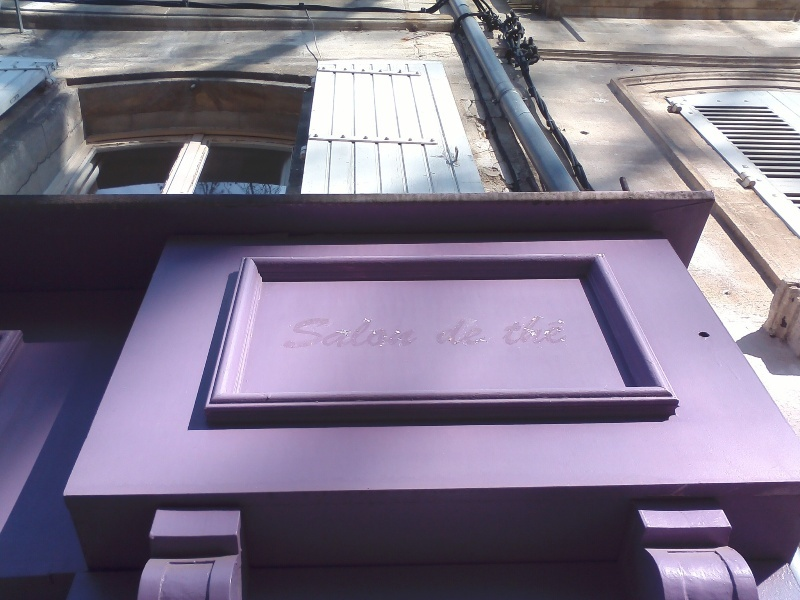text: (289, 314, 304, 352), (305, 314, 320, 352), (321, 314, 336, 352), (337, 314, 352, 352), (353, 314, 368, 352), (369, 314, 384, 352), (385, 314, 400, 352), (401, 314, 416, 352), (513, 313, 528, 347), (529, 313, 544, 347), (545, 313, 560, 347), (449, 317, 464, 349), (465, 317, 480, 349), (436, 317, 448, 349), (502, 313, 512, 347), (561, 313, 570, 347), (481, 317, 487, 349), (417, 314, 422, 352), (286, 314, 288, 352)
